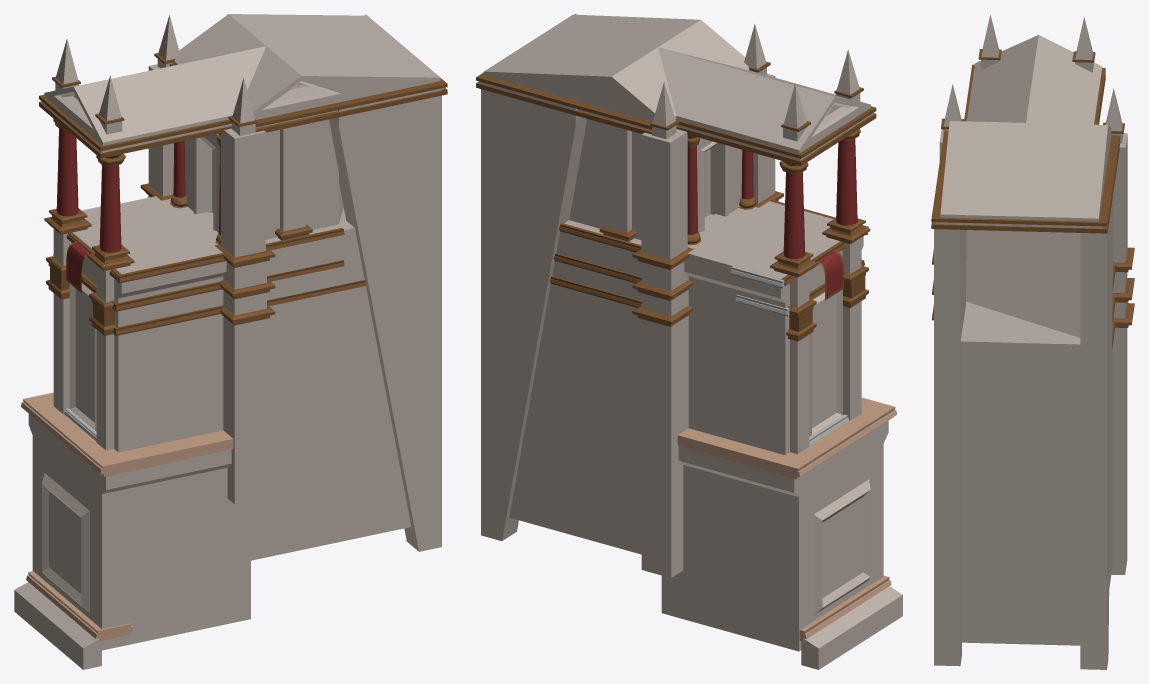
File: Edge_03.fbx
3 renders of one model, left to right at view 1: azimuth 30°, elevation 25°; view 2: azimuth 150°, elevation 25°; view 3: azimuth 270°, elevation 25°, orthographic. The views are drawn at different scales.
Parts seen in each view (by area): view 1: pCube267; view 2: pCube267; view 3: pCube267.
Part boxes in pixels (<box>): pCube267: <box>14,14,447,669</box>; pCube267: <box>476,14,902,669</box>; pCube267: <box>931,14,1134,669</box>.
Bounding box in the file's own units: 0.0584 × 0.0896 × 0.0296.
